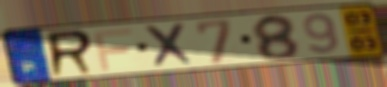7: (192, 17, 235, 66)
8: (249, 12, 303, 62)
9: (300, 11, 342, 56)
F: (91, 27, 135, 72)
R: (45, 28, 97, 80)
X: (140, 22, 199, 70)
